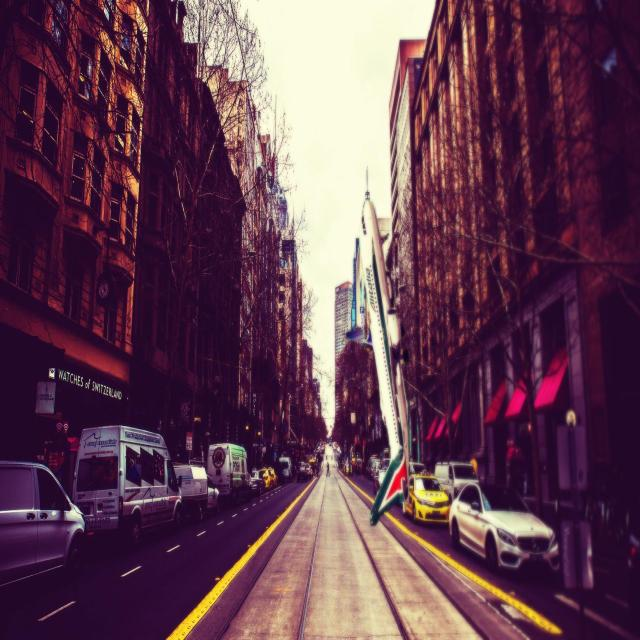airplane: (359, 199, 414, 526)
